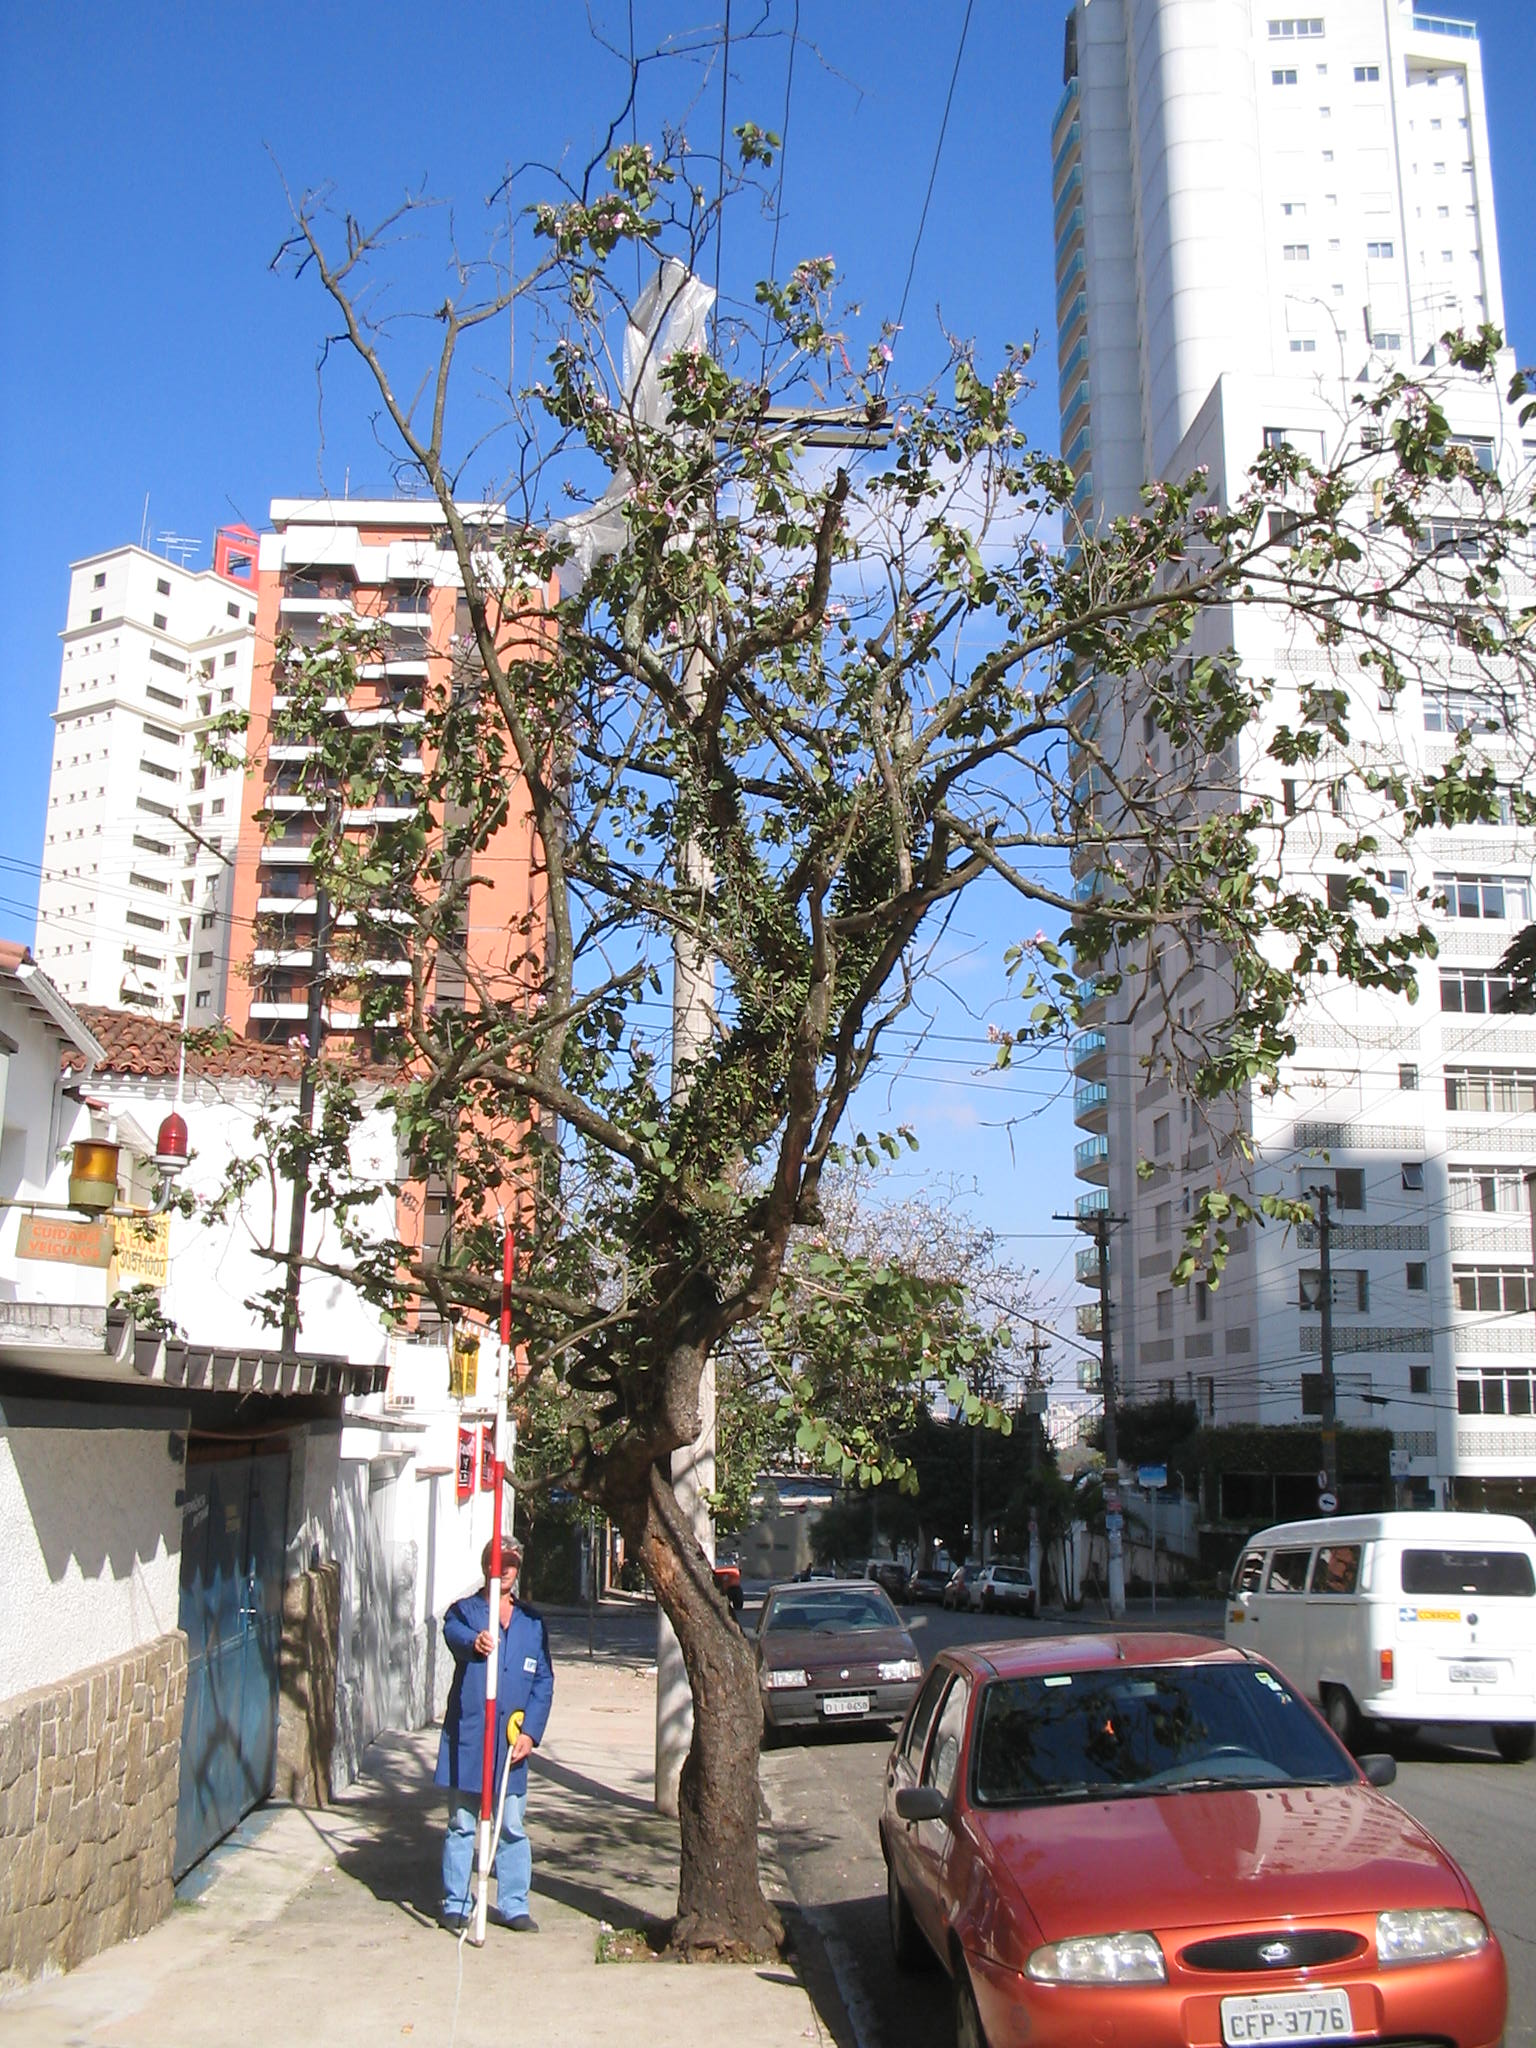stem: (581, 1366, 857, 1967)
stick: (447, 1232, 539, 1945)
tree: (194, 118, 1536, 1971)
